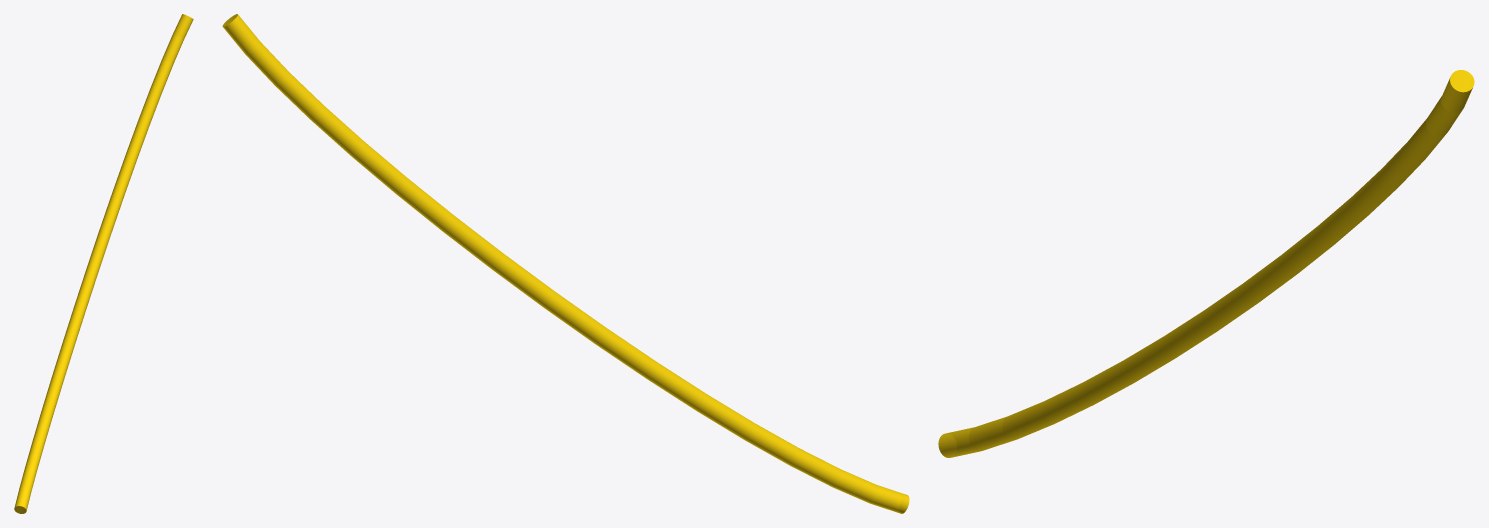
File: Event_421115418_track_29.fbx
3 renders of one model, left to right at view 1: azimuth 30°, elevation 25°; view 2: azimuth 150°, elevation 25°; view 3: azimuth 270°, elevation 25°, orthographic. The views are drawn at different scales.
Visible parts, largest first — view 1: Model; view 2: Model; view 3: Model.
Part boxes in pixels (left/top/right/bottom): Model: left=14, top=14, right=193, bottom=513; Model: left=222, top=14, right=909, bottom=513; Model: left=938, top=70, right=1474, bottom=457.
Bounding box in the file's own units: 1.12 × 1.18 × 0.8552.
